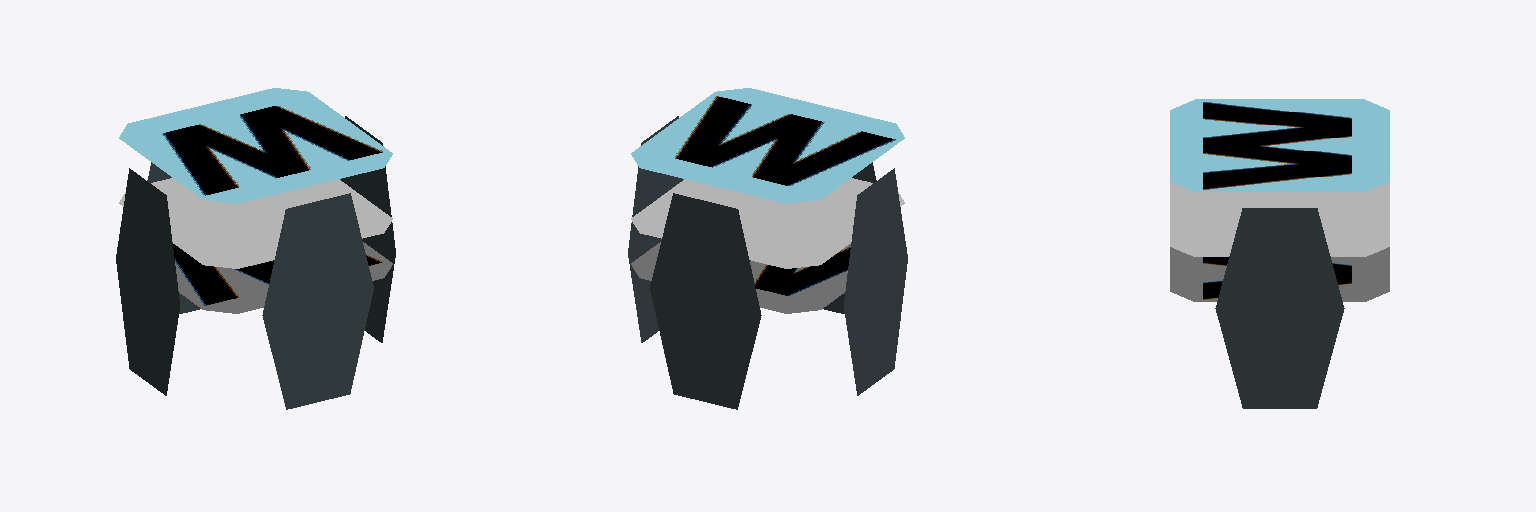
3 views of the same model, side by side, from view 1: azimuth 30°, elevation 25°; view 2: azimuth 150°, elevation 25°; view 3: azimuth 270°, elevation 25° (orthographic).
Parts seen in each view (by area): view 1: fant_wasd_converter_Cube; view 2: fant_wasd_converter_Cube; view 3: fant_wasd_converter_Cube.
Boxes of the visible parts, <box> form: fant_wasd_converter_Cube: <box>116,88,395,409</box>; fant_wasd_converter_Cube: <box>628,88,907,409</box>; fant_wasd_converter_Cube: <box>1170,99,1389,408</box>.
Size of the model in its own units: 1 by 1 by 1.
Materials: 4 (3 with a texture image).